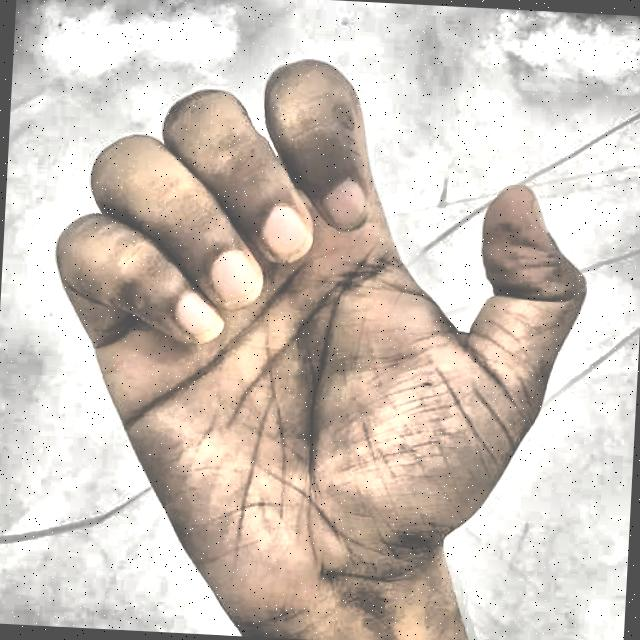Dho: (16, 30, 613, 640)
